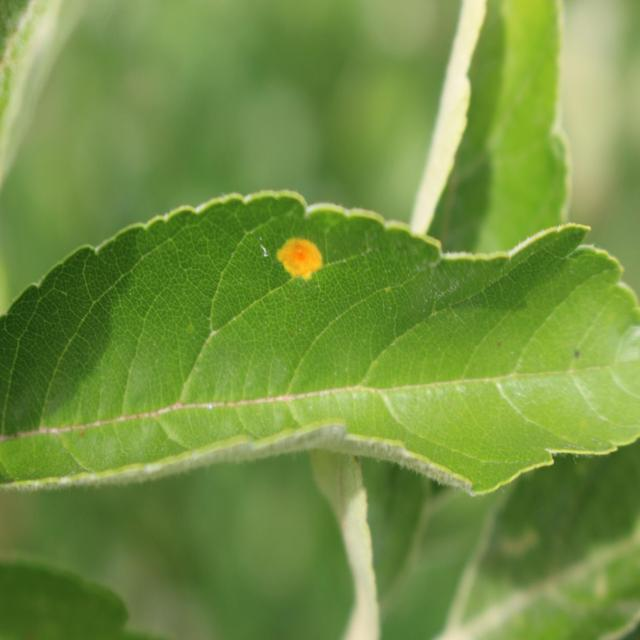Rust: (272, 225, 332, 290)
